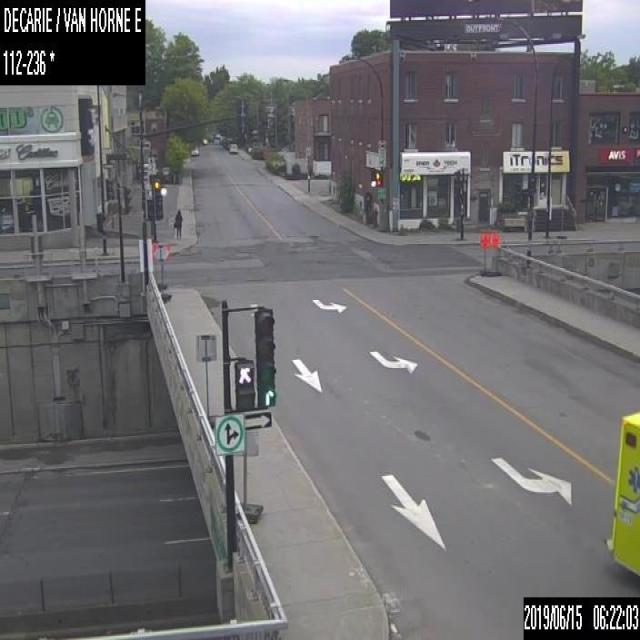construction: (235, 427, 262, 521), (196, 332, 217, 428), (154, 242, 171, 302), (489, 232, 501, 276), (479, 232, 489, 275)
pedestrian: (172, 207, 182, 240)
vehicle: (607, 408, 639, 576), (228, 140, 238, 153), (190, 146, 199, 156)
